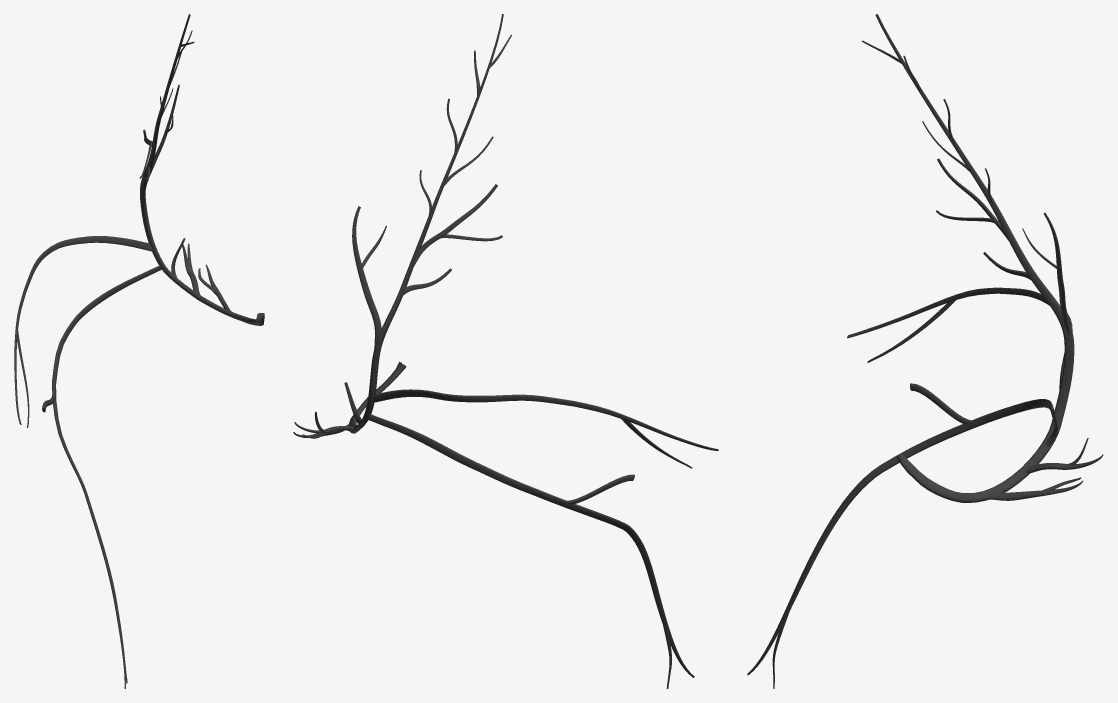
Rendered from N_5_trigeminus_mandibular_auriculotemporal.glb.
The picture shows the model from 3 angles, left to right: view 1: azimuth 30°, elevation 25°; view 2: azimuth 150°, elevation 25°; view 3: azimuth 270°, elevation 25°; orthographic projection. The views are drawn at different scales.
Parts seen in each view (by area): view 1: N_5_trigeminus_mandibular_auriculotemporal; view 2: N_5_trigeminus_mandibular_auriculotemporal; view 3: N_5_trigeminus_mandibular_auriculotemporal.
Part boxes in pixels (x1,y1,x2,y2): N_5_trigeminus_mandibular_auriculotemporal: (14, 14, 264, 688); N_5_trigeminus_mandibular_auriculotemporal: (293, 14, 718, 688); N_5_trigeminus_mandibular_auriculotemporal: (747, 14, 1103, 688).
Size of the model in its own units: 0.0269 by 0.0551 by 0.0242.
1 material, 1 textured.
